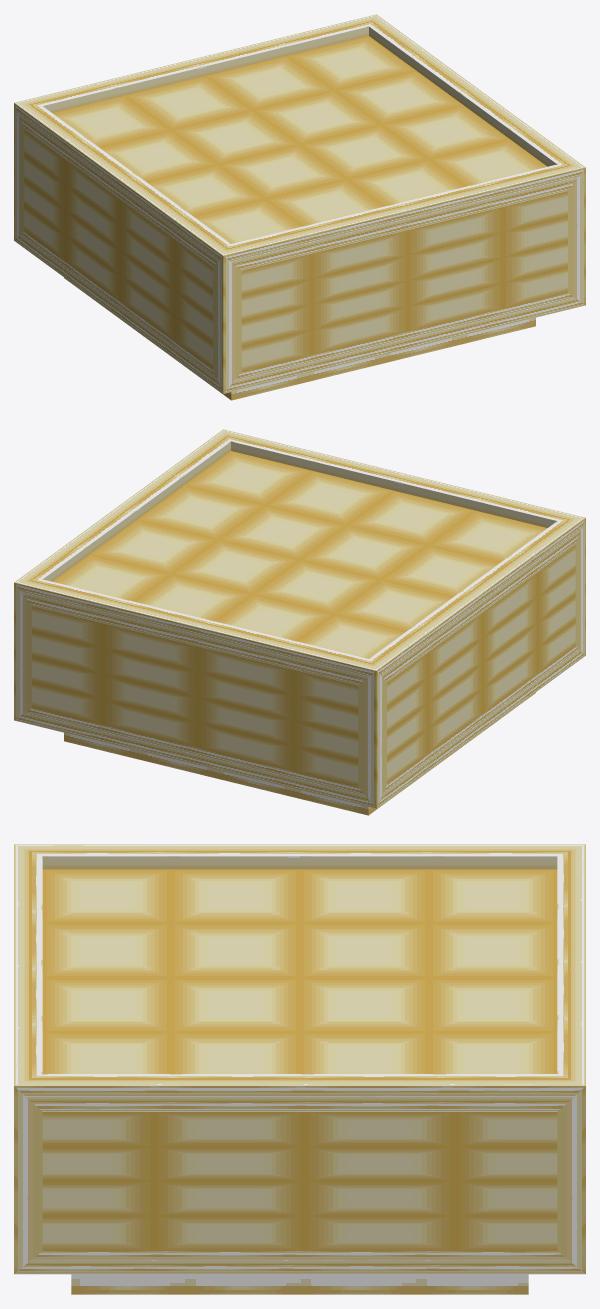
The model's file is 3883kg3case11.gltf.
3 views of the same model, one above another, from view 1: azimuth 30°, elevation 25°; view 2: azimuth 150°, elevation 25°; view 3: azimuth 270°, elevation 25° (orthographic). The views are drawn at different scales.
Parts seen in each view (by area): view 1: 3883kg3case11; view 2: 3883kg3case11; view 3: 3883kg3case11.
Boxes of the visible parts, x1,y1,x2,y2 form: 3883kg3case11: (14,14,585,400); 3883kg3case11: (14,429,585,815); 3883kg3case11: (14,844,585,1294).
Size of the model in its own units: 1 by 0.4399 by 1.
2 materials, 2 textured.
